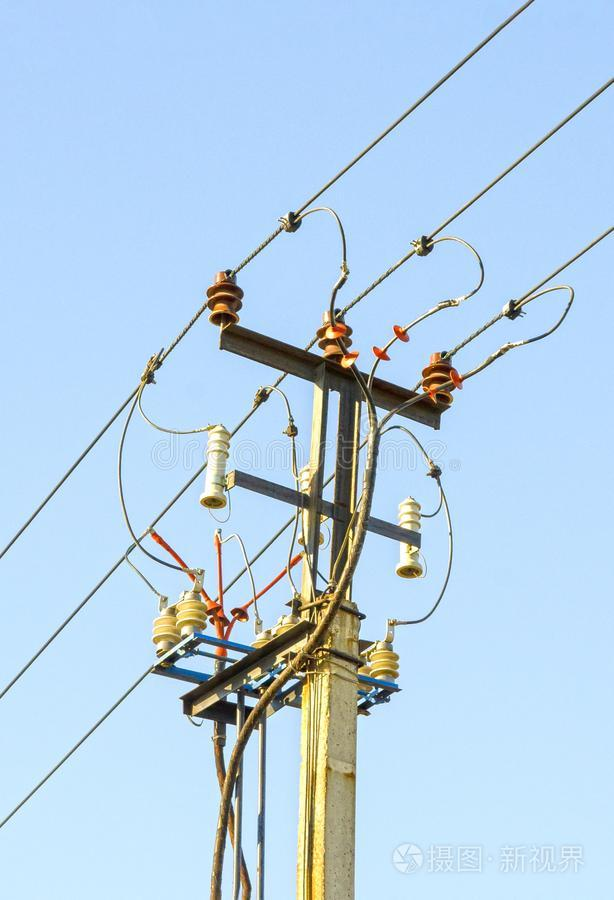insulator: (201, 283, 245, 323), (317, 321, 357, 360), (418, 365, 458, 403), (173, 597, 208, 630), (370, 649, 405, 678), (150, 613, 179, 646)
